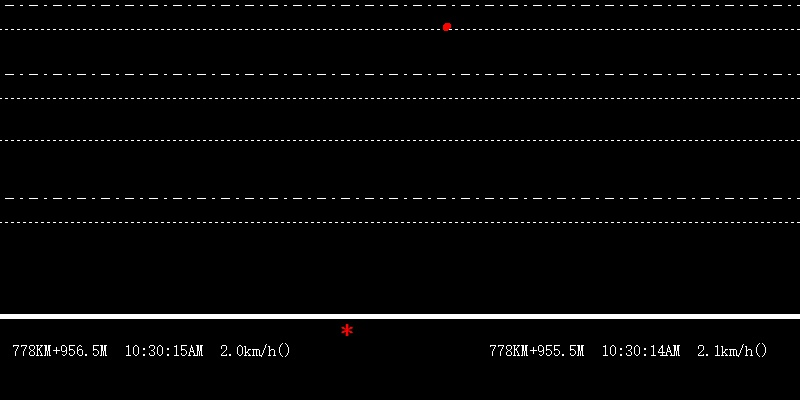face_1: (441, 21, 451, 32)
star: (338, 321, 356, 342)
